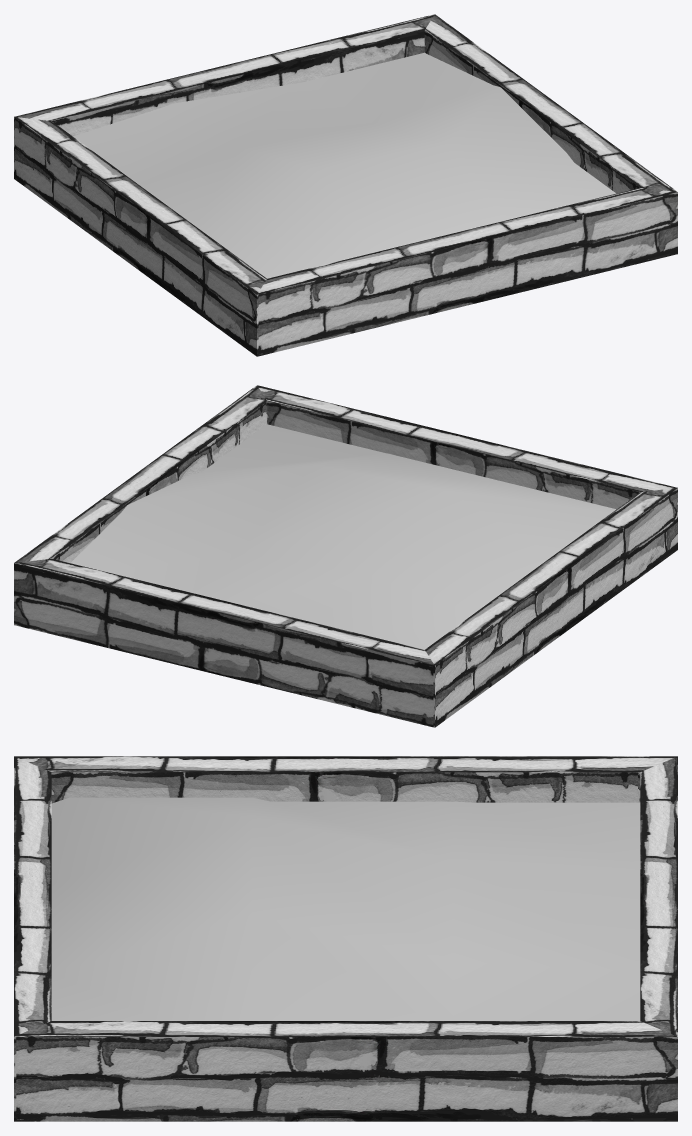
File: TreePot.fbx
The picture shows the model from 3 angles, top to bottom: view 1: azimuth 30°, elevation 25°; view 2: azimuth 150°, elevation 25°; view 3: azimuth 270°, elevation 25°; orthographic projection. The views are drawn at different scales.
Visible parts, largest first — view 1: TreePot; view 2: TreePot; view 3: TreePot.
Boxes of the visible parts, x1,y1,x2,y2 form: TreePot: [14, 14, 677, 356]; TreePot: [14, 385, 677, 727]; TreePot: [14, 756, 677, 1121].
Bounding box in the file's own units: 2.36 × 0.4712 × 2.36.
